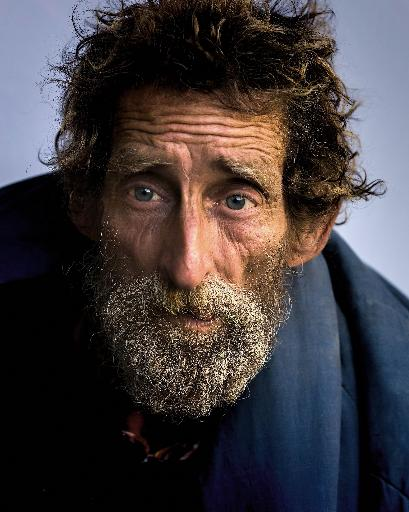left_eye: (215, 192, 261, 212)
left_lip_corner: (214, 317, 226, 326)
right_eye: (125, 185, 167, 205)
right_lip_corner: (157, 310, 168, 320)
